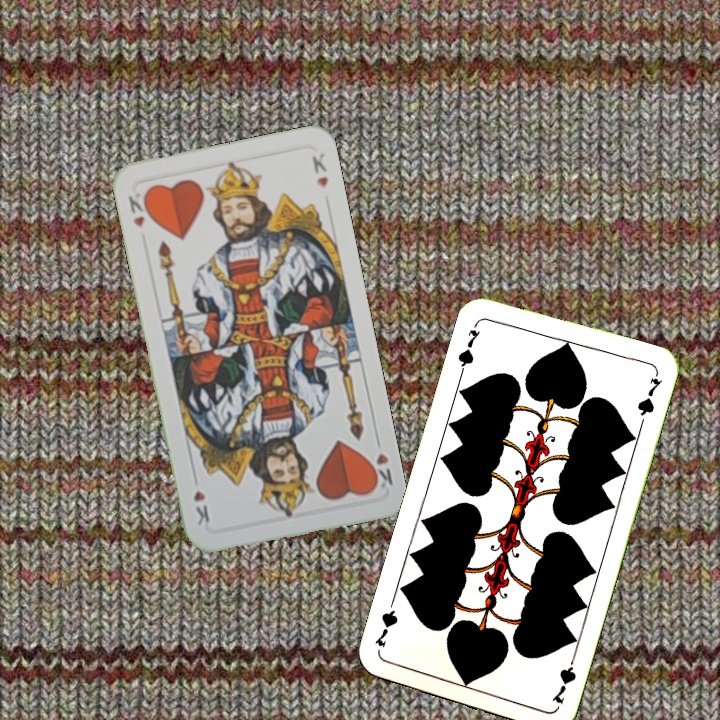G7: (547, 650, 579, 707), (453, 317, 483, 375)
HK: (364, 433, 396, 493), (124, 187, 154, 231)
